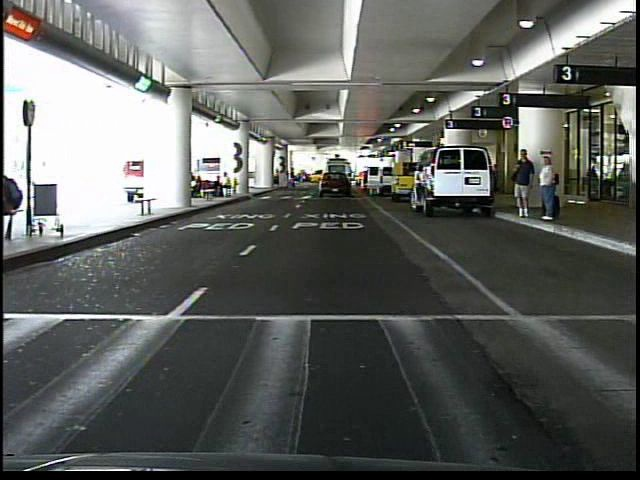person: (509, 146, 536, 222), (536, 151, 560, 225), (271, 167, 283, 191), (340, 171, 349, 193)
